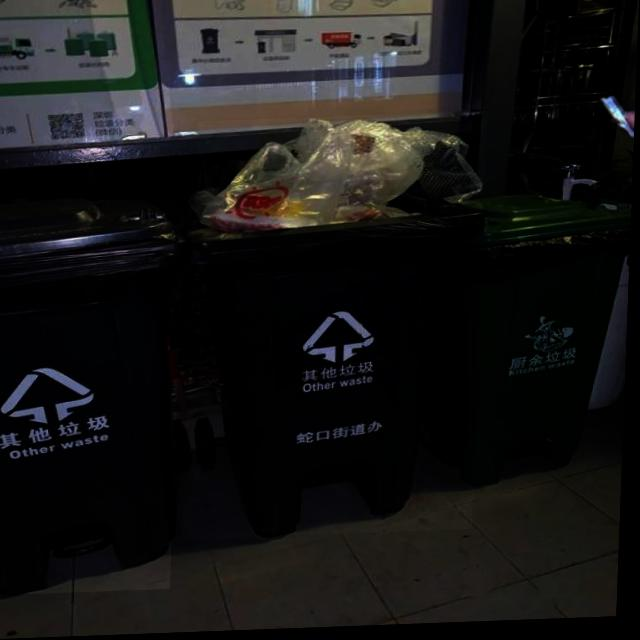garbage_bin: (0, 195, 186, 596), (420, 193, 633, 491)
overflow: (186, 115, 488, 541)
